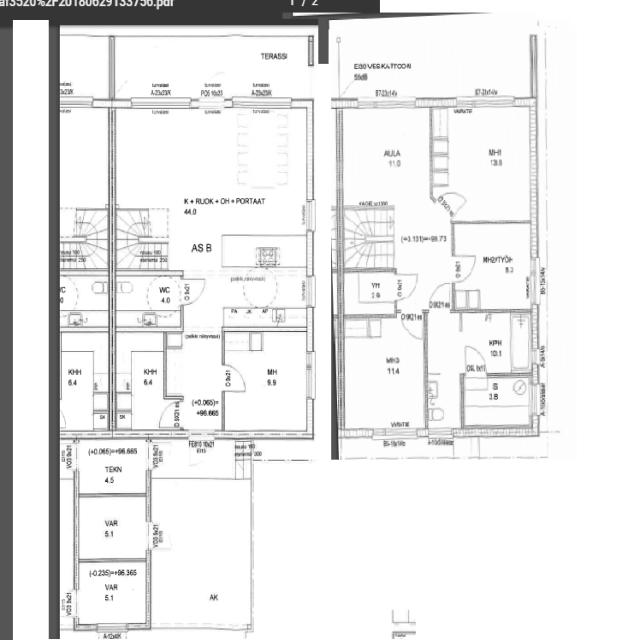door: (461, 340, 489, 376), (438, 188, 472, 217), (450, 251, 478, 286), (426, 279, 454, 313), (392, 268, 420, 302), (179, 274, 207, 308), (221, 361, 249, 394), (399, 308, 426, 342), (157, 398, 183, 430), (150, 524, 174, 550)
window: (128, 96, 194, 116), (230, 96, 298, 114), (368, 423, 424, 444), (354, 96, 420, 113), (462, 94, 521, 112), (303, 348, 318, 403), (528, 253, 542, 305), (57, 94, 97, 112), (144, 520, 164, 550), (303, 196, 318, 235), (303, 272, 318, 311), (95, 622, 129, 636), (143, 518, 153, 550), (72, 588, 82, 619), (186, 428, 217, 438)
zone: (113, 108, 307, 273), (432, 106, 536, 222), (338, 316, 427, 435), (338, 104, 434, 205), (222, 328, 313, 434), (451, 221, 537, 312), (56, 328, 111, 434), (56, 106, 112, 210), (113, 328, 167, 432), (167, 335, 226, 430), (75, 494, 149, 560), (460, 310, 535, 375), (76, 560, 148, 626), (461, 374, 535, 434), (74, 436, 148, 495), (113, 271, 183, 329), (56, 271, 111, 328), (342, 269, 398, 318), (426, 372, 461, 436)
